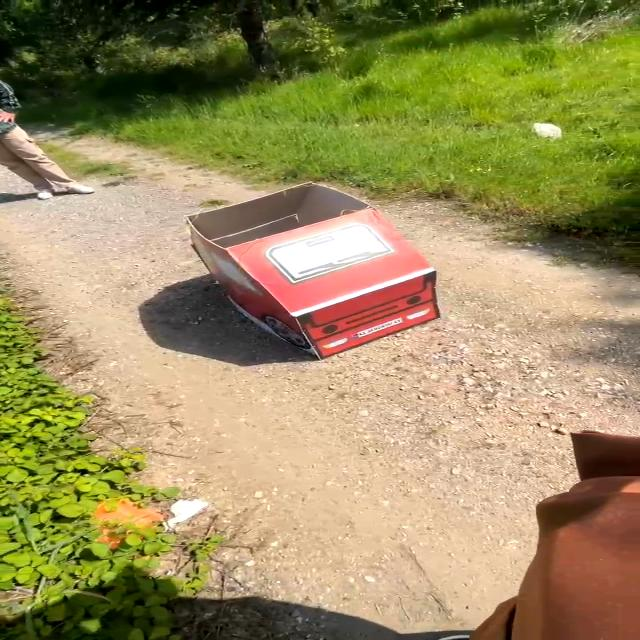red_car: (176, 176, 458, 383)
